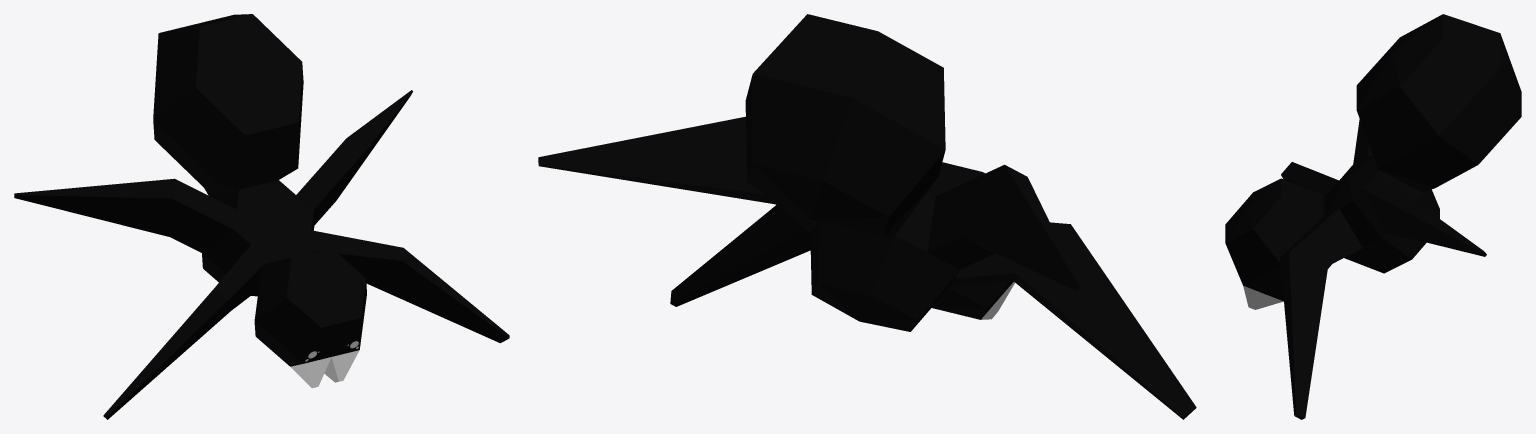
File: spider.glb
3 views of the same model, side by side, from view 1: azimuth 30°, elevation 25°; view 2: azimuth 150°, elevation 25°; view 3: azimuth 270°, elevation 25° (orthographic). The views are drawn at different scales.
Parts seen in each view (by area): view 1: Sphere.001; view 2: Sphere.001; view 3: Sphere.001.
Part boxes in pixels (box(x1,y1,x2,y2)): Sphere.001: box(14, 14, 509, 419); Sphere.001: box(538, 14, 1196, 419); Sphere.001: box(1225, 14, 1521, 419).
Bounding box in the file's own units: 2.64 × 1.98 × 1.77.
1 material, 1 textured.
